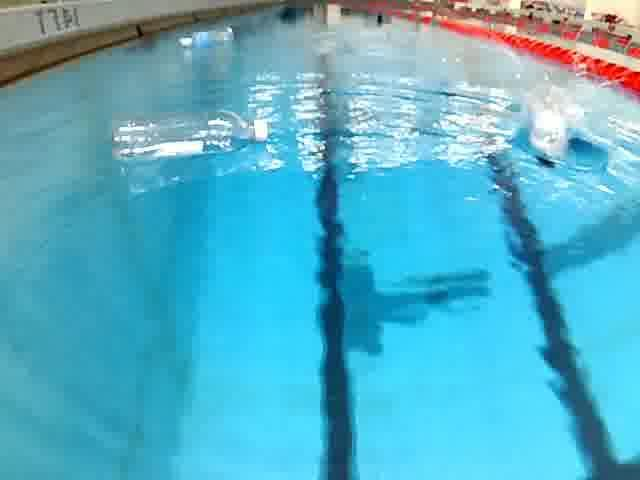Bottle: (102, 107, 276, 166), (169, 24, 243, 53)
